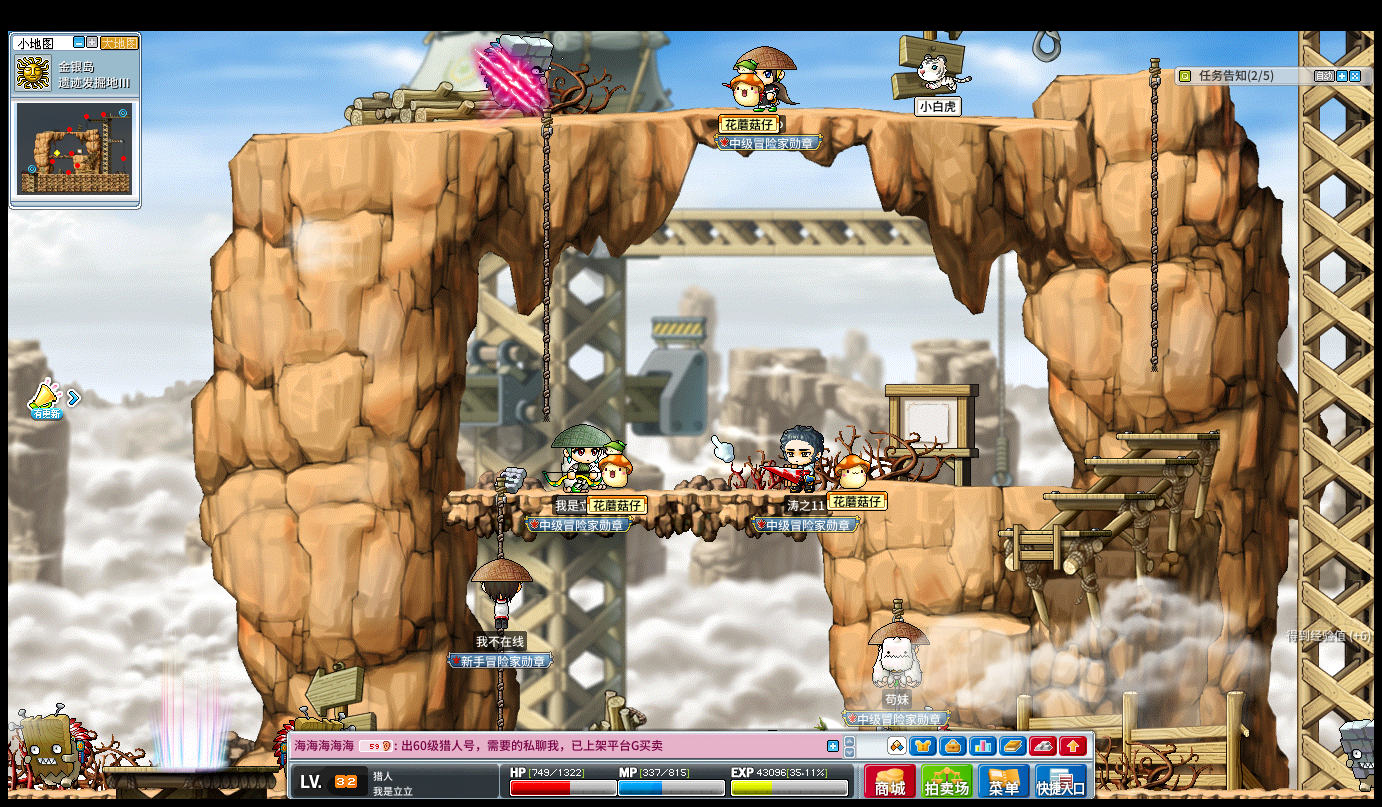floor: (225, 104, 1075, 138), (445, 487, 824, 498), (924, 613, 1029, 635), (902, 482, 1076, 492), (1052, 67, 1169, 81), (1114, 429, 1221, 441), (1077, 456, 1194, 464), (995, 528, 1108, 536), (1041, 492, 1154, 500)
monster: (9, 706, 94, 790), (485, 32, 553, 116), (1341, 718, 1380, 792)
rope: (1146, 56, 1160, 377), (540, 107, 551, 422), (492, 482, 504, 559), (494, 668, 503, 723)
